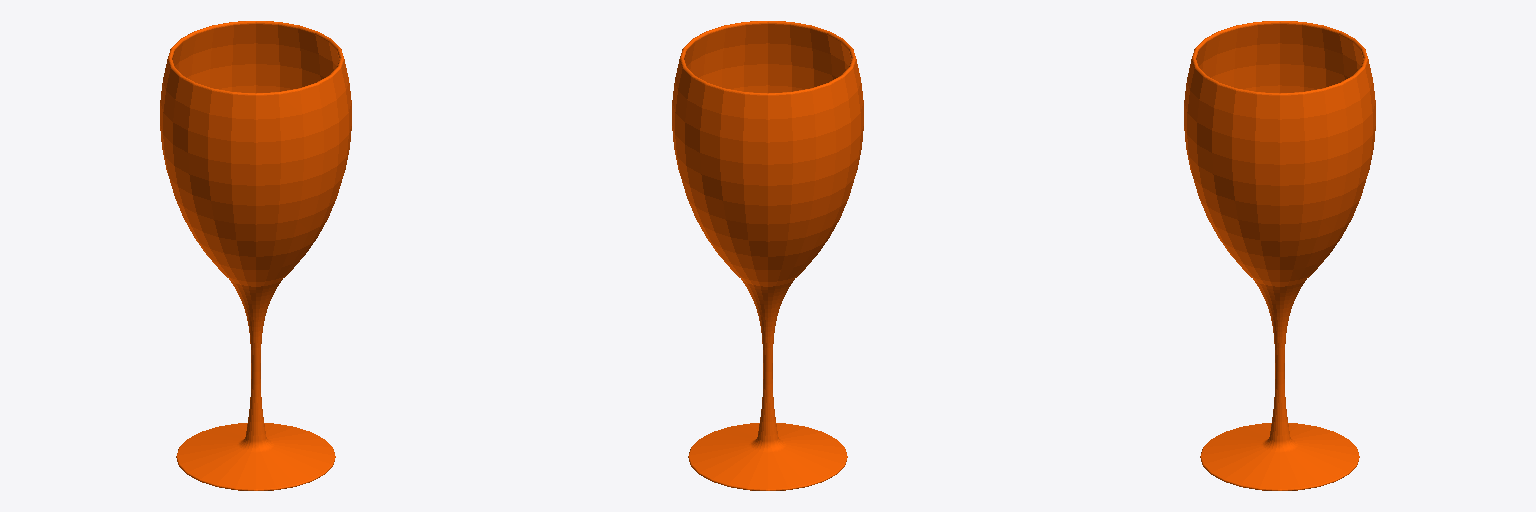
The robot description file, URDF, robot "WineGlass_a8bfc06799c33472af4429cef16e2ed1":
<?xml version="1.0" ?>
<robot name="WineGlass_a8bfc06799c33472af4429cef16e2ed1">
   <material name="obj_color">
      <color rgba="1.0 0.423529411765 0.0392156862745 1.0"/>
   </material>
   <link name="top">
      <inertial>
         <origin rpy="0.0002048250431681804 0.0003808761793436689 0.0003808762701879783" xyz="-3.679324682823273e-05 -0.0001097932468282324 0.02992421391371211"/>
         <mass value="0.3470625902671888"/>
         <inertia ixx="0.000380876224763688" ixy="-4.542429027408405e-11" ixz="6.131668821048386e-10" iyy="0.0003808762247636881" iyz="6.131668821225207e-10" izz="0.0002048250431724517"/>
      </inertial>
      <visual>
         <origin rpy="0 0 0" xyz="0 0 0"/>
         <geometry>
            <mesh filename="top_watertight_tiny.stl" scale="1 1 1"/>
         </geometry>
         <material name="obj_color"/>
      </visual>
      <collision>
         <origin rpy="0 0 0" xyz="0 0 0"/>
         <geometry>
            <mesh filename="top_watertight_tiny.obj" scale="1 1 1"/>
         </geometry>
      </collision>
   </link>
   <link name="bottom">
      <inertial>
         <origin rpy="9.926113802792815e-06 9.926115166937657e-06 1.417001437662079e-05" xyz="-3.68946579579332e-05 -0.0001098947588019537 -0.09451071309800604"/>
         <mass value="0.04472319146221475"/>
         <inertia ixx="9.926114640580077e-06" ixy="-6.639720324557172e-13" ixz="-2.205184672774165e-11" iyy="9.926114329380035e-06" iyz="-2.209741657590968e-11" izz="1.417001437639115e-05"/>
      </inertial>
      <visual>
         <origin rpy="0 0 0" xyz="0 0 0"/>
         <geometry>
            <mesh filename="bottom_watertight_tiny.stl" scale="1 1 1"/>
         </geometry>
         <material name="obj_color"/>
      </visual>
      <collision>
         <origin rpy="0 0 0" xyz="0 0 0"/>
         <geometry>
            <mesh filename="bottom_watertight_tiny.obj" scale="1 1 1"/>
         </geometry>
      </collision>
   </link>
   <joint name="rotation" type="revolute">
      <origin xyz="0 0 0"/>
      <axis xyz="0 0 -1"/>
      <parent link="bottom"/>
      <child link="top"/>
      <dynamics damping="1.0" friction="1.0"/>
      <limit effort="0.1" velocity="0.1" lower="0" upper="0.001"/>
   </joint>
</robot>

--- What the picture shows (computed from the rendered views, not written in the file) ---
The picture shows the robot from 3 angles, left to right: view 1: azimuth 30°, elevation 25°; view 2: azimuth 150°, elevation 25°; view 3: azimuth 270°, elevation 25°; orthographic projection.
Model WineGlass_a8bfc06799c33472af4429cef16e2ed1 with 2 links and 1 joints (1 revolute), rooted at bottom, posed every joint at zero.
Links seen in each view (by area): view 1: top, bottom; view 2: top, bottom; view 3: top, bottom.
Boxes of the visible links, x1,y1,x2,y2 form: top: [160, 21, 351, 371]; bottom: [176, 371, 335, 490]; top: [672, 21, 863, 371]; bottom: [688, 371, 847, 490]; top: [1184, 21, 1375, 371]; bottom: [1200, 371, 1359, 490].
Size in the robot's own frame: 0.0774 by 0.0774 by 0.1782 metres.
2 mesh visuals loaded from 2 distinct referenced files (2 binary STL).